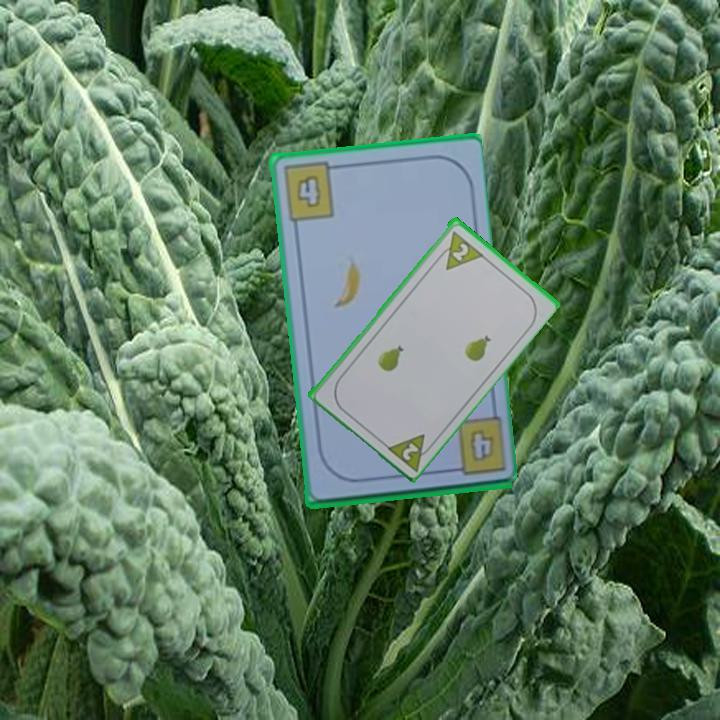2p: (432, 226, 485, 273), (382, 429, 438, 473)
4b: (279, 159, 343, 224), (465, 425, 497, 465)
